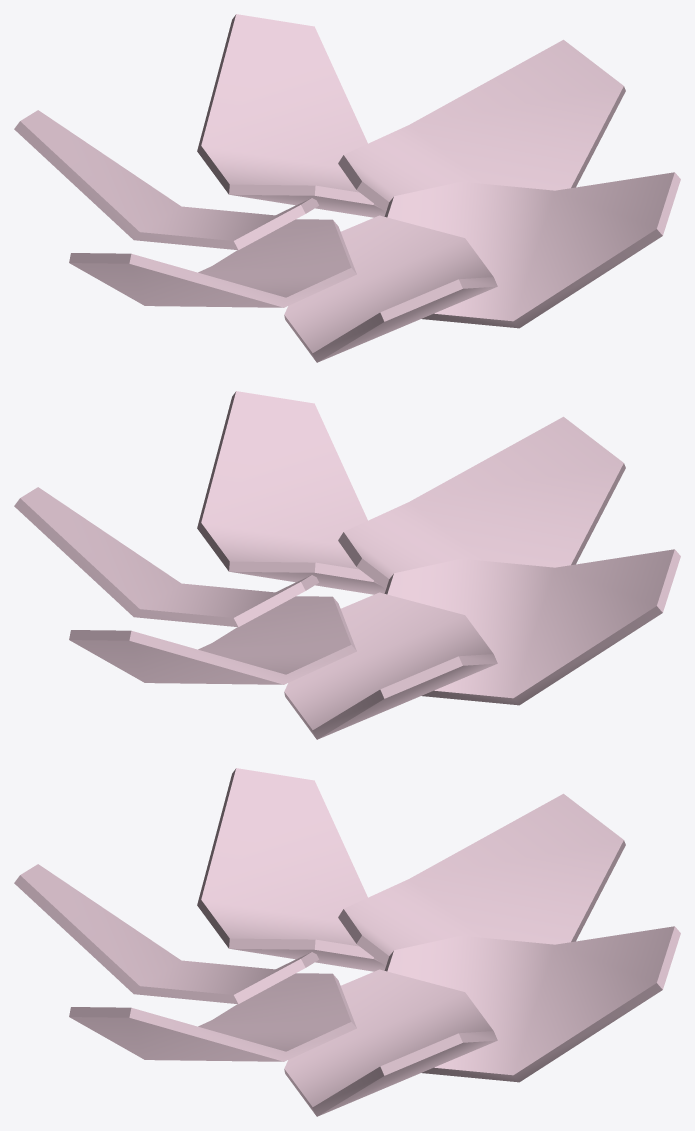
Rendered from flower2.gltf.
The picture shows the model from 3 angles, top to bottom: view 1: azimuth 30°, elevation 25°; view 2: azimuth 150°, elevation 25°; view 3: azimuth 270°, elevation 25°; orthographic projection.
Visible parts, largest first — view 1: 立方体 0, 立方体 1, 立方体 5, 立方体 2, 立方体 3, 立方体 4; view 2: 立方体 2, 立方体 3, 立方体 1, 立方体 4, 立方体 5, 立方体 0; view 3: 立方体 4, 立方体 5, 立方体 3, 立方体 0, 立方体 1, 立方体 2.
Part boxes in pixels (bbox=[...]): 立方体 0: bbox=[338, 39, 625, 212]; 立方体 1: bbox=[384, 172, 680, 328]; 立方体 5: bbox=[197, 14, 385, 217]; 立方体 2: bbox=[284, 215, 497, 362]; 立方体 3: bbox=[69, 219, 356, 307]; 立方体 4: bbox=[14, 110, 318, 250]; 立方体 2: bbox=[338, 416, 625, 589]; 立方体 3: bbox=[384, 549, 680, 705]; 立方体 1: bbox=[197, 391, 385, 594]; 立方体 4: bbox=[284, 592, 497, 739]; 立方体 5: bbox=[69, 596, 356, 684]; 立方体 0: bbox=[14, 487, 318, 627]; 立方体 4: bbox=[338, 793, 625, 966]; 立方体 5: bbox=[384, 926, 680, 1082]; 立方体 3: bbox=[197, 768, 385, 971]; 立方体 0: bbox=[284, 969, 497, 1116]; 立方体 1: bbox=[69, 973, 356, 1061]; 立方体 2: bbox=[14, 864, 318, 1004].
Size of the model in its own units: 382 by 76.69 by 371.
